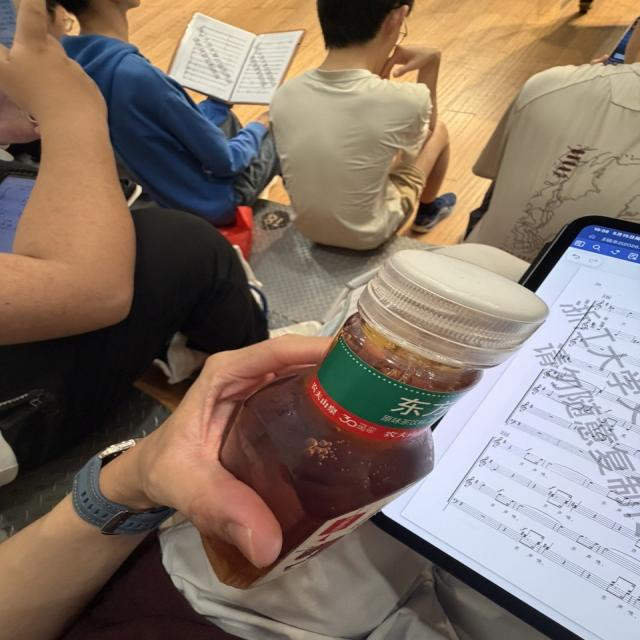high: (203, 250, 546, 588)
